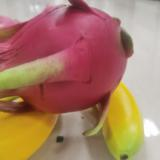pitaya: (1, 1, 134, 112)
